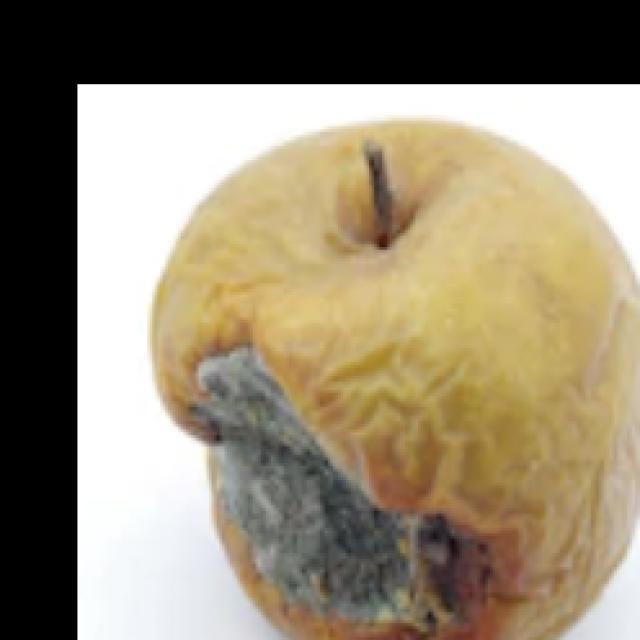Rotten: (160, 130, 640, 640)
